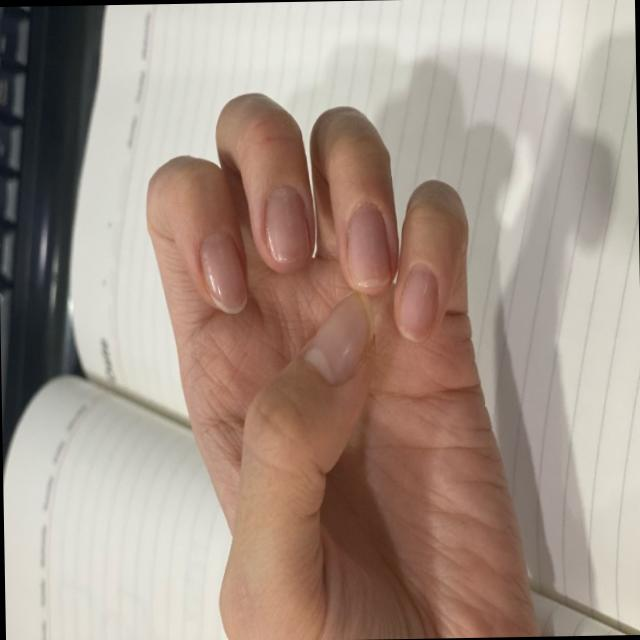Nail: (303, 291, 372, 385), (200, 230, 246, 312), (264, 184, 310, 262), (348, 202, 390, 286), (396, 266, 437, 340)
